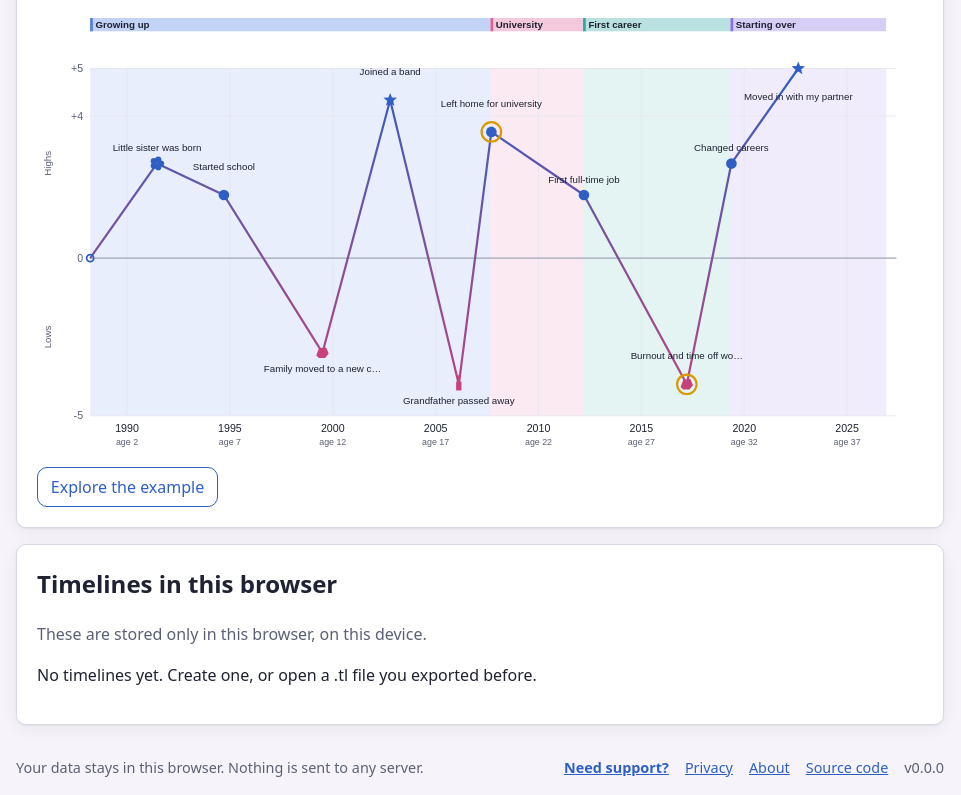
Test: About page › opens from the footer, links to GitHub and goes back
The width and height of the screenshot is (961, 795).
(page scrolled)
Click the button "About": (769, 768) [749,756,790,779]
(page scrolled)
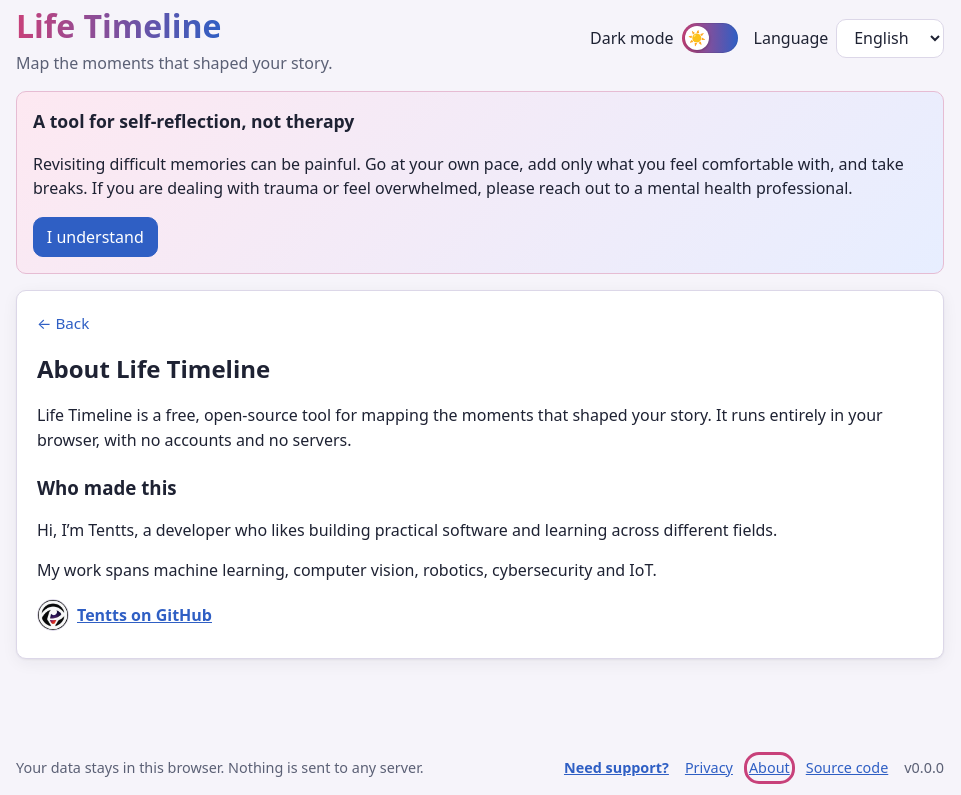
Check: the heading "About Life Timeline" is shown, box [37,352,270,385]
Click the button "← Back": (63, 324) [37,312,89,335]
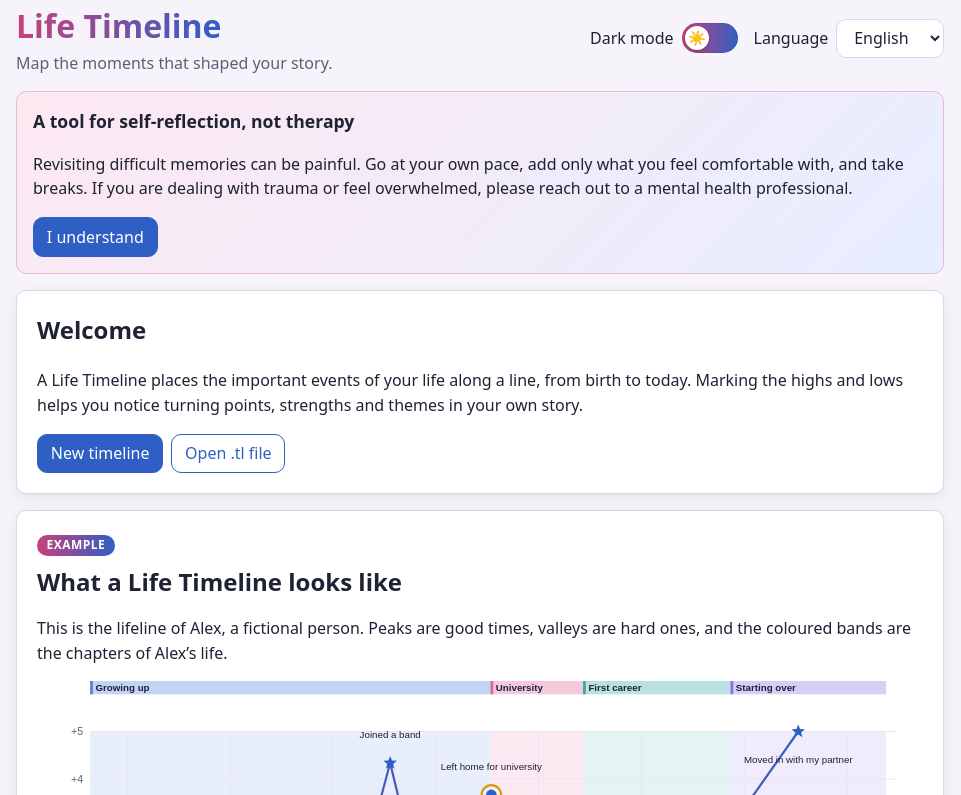
Check: the heading "About Life Timeline" is gone
